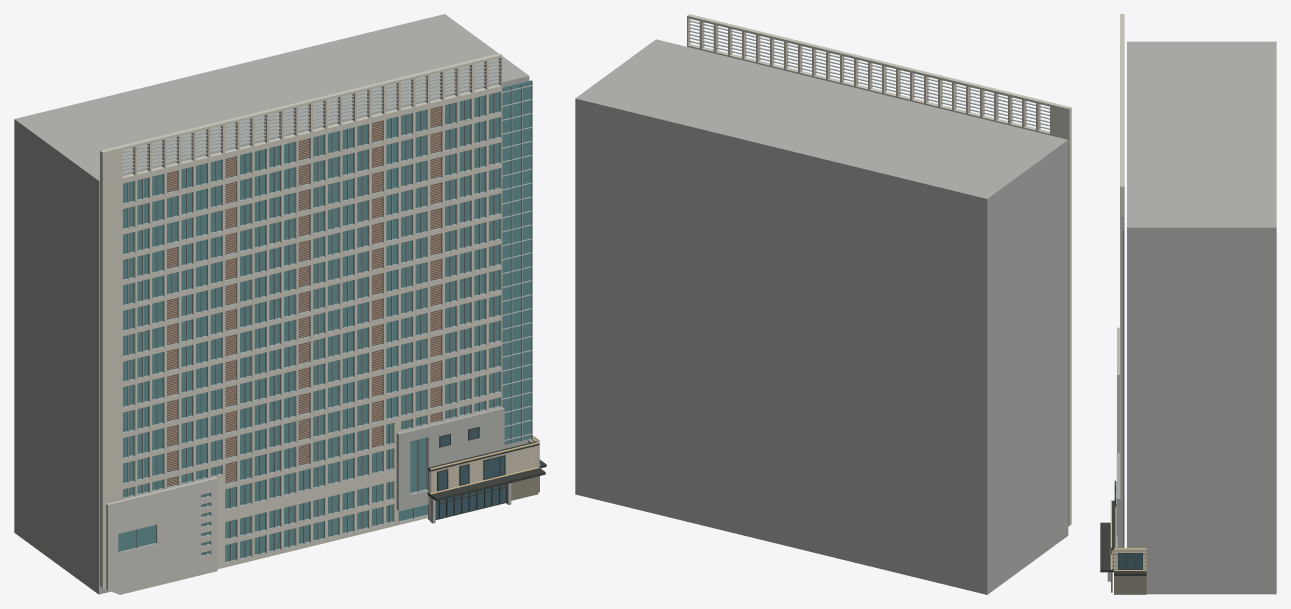
File: detail.glb
3 renders of one model, left to right at view 1: azimuth 30°, elevation 25°; view 2: azimuth 150°, elevation 25°; view 3: azimuth 270°, elevation 25°, orthographic. The views are drawn at different scales.
Parts seen in each view (by area): view 1: F_web_material_group_02, F_web_material_group_00, F_web_material_group_05, F_web_material_group_01, F_web_material_group_03, F_web_material_group_04, F_web_material_group_08, F_web_material_group_07, F_web_material_group_06, F_web_material_group_12; view 2: F_web_material_group_05, F_web_material_group_00, F_web_material_group_01; view 3: F_web_material_group_05, F_web_material_group_00, F_web_material_group_07, F_web_material_group_01, F_web_material_group_13, F_web_material_group_08, F_web_material_group_06, F_web_material_group_04, F_web_material_group_02, F_web_material_group_12.
Boxes of the visible parts, x1,y1,x2,y2 form: F_web_material_group_02: (118,80,531,561); F_web_material_group_00: (100,53,502,589); F_web_material_group_05: (14,14,529,594); F_web_material_group_01: (118,60,532,563); F_web_material_group_03: (167,106,441,486); F_web_material_group_04: (106,477,217,594); F_web_material_group_08: (396,407,538,523); F_web_material_group_07: (427,427,546,519); F_web_material_group_06: (435,428,506,518); F_web_material_group_12: (430,438,539,493); F_web_material_group_05: (575,39,1068,594); F_web_material_group_00: (687,14,1071,526); F_web_material_group_01: (688,20,1049,129); F_web_material_group_05: (1127,41,1276,594); F_web_material_group_00: (1120,14,1124,547); F_web_material_group_07: (1100,480,1146,575); F_web_material_group_01: (1121,217,1122,547); F_web_material_group_13: (1111,572,1146,593); F_web_material_group_08: (1107,453,1146,594); F_web_material_group_06: (1115,481,1142,569); F_web_material_group_04: (1117,327,1119,452); F_web_material_group_02: (1122,217,1123,547); F_web_material_group_12: (1111,549,1146,569).
Size of the model in its own units: 30.09 by 29.05 by 11.77.
